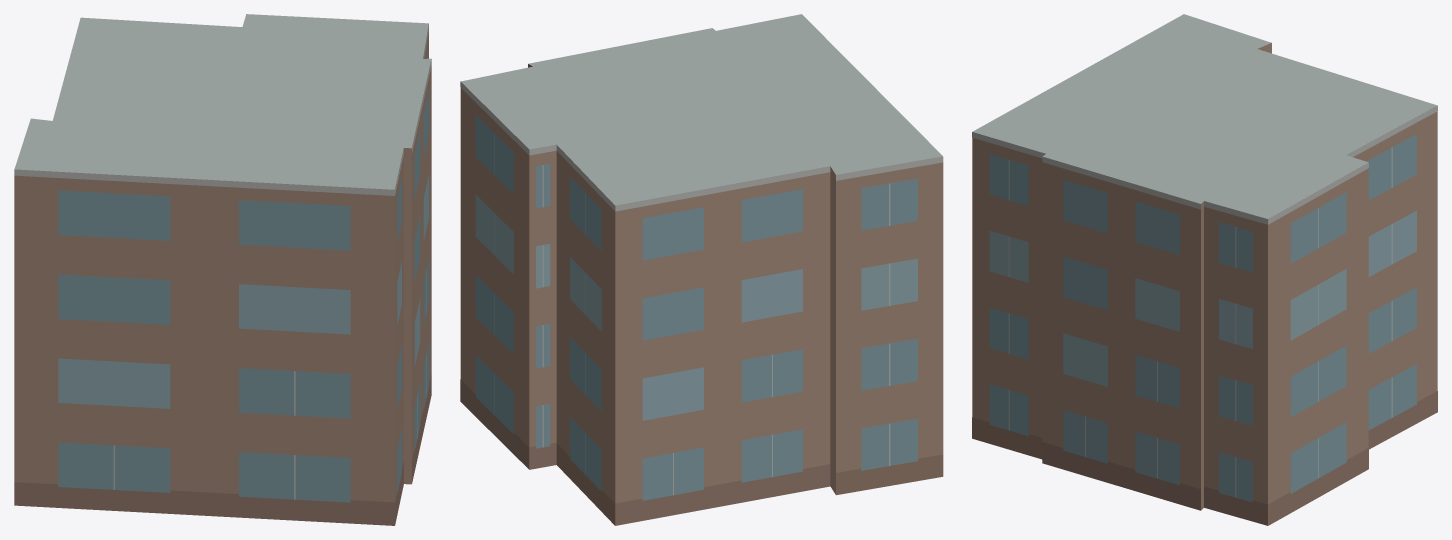
The model's file is survey-upis-32481876.glb.
3 views of the same model, side by side, from view 1: azimuth 30°, elevation 25°; view 2: azimuth 150°, elevation 25°; view 3: azimuth 270°, elevation 25° (orthographic). The views are drawn at different scales.
Parts seen in each view (by area): view 1: survey-upis-32481876.tmp; view 2: survey-upis-32481876.tmp; view 3: survey-upis-32481876.tmp.
Part boxes in pixels (<box>): survey-upis-32481876.tmp: <box>14,14,431,525</box>; survey-upis-32481876.tmp: <box>460,14,943,525</box>; survey-upis-32481876.tmp: <box>972,14,1437,525</box>.
Bounding box in the file's own units: 18.94 × 13.2 × 18.17.
